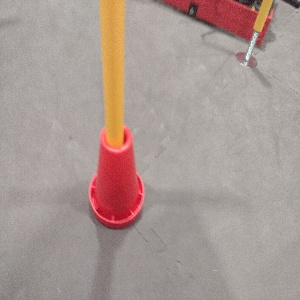Red_1: (86, 121, 147, 228)
